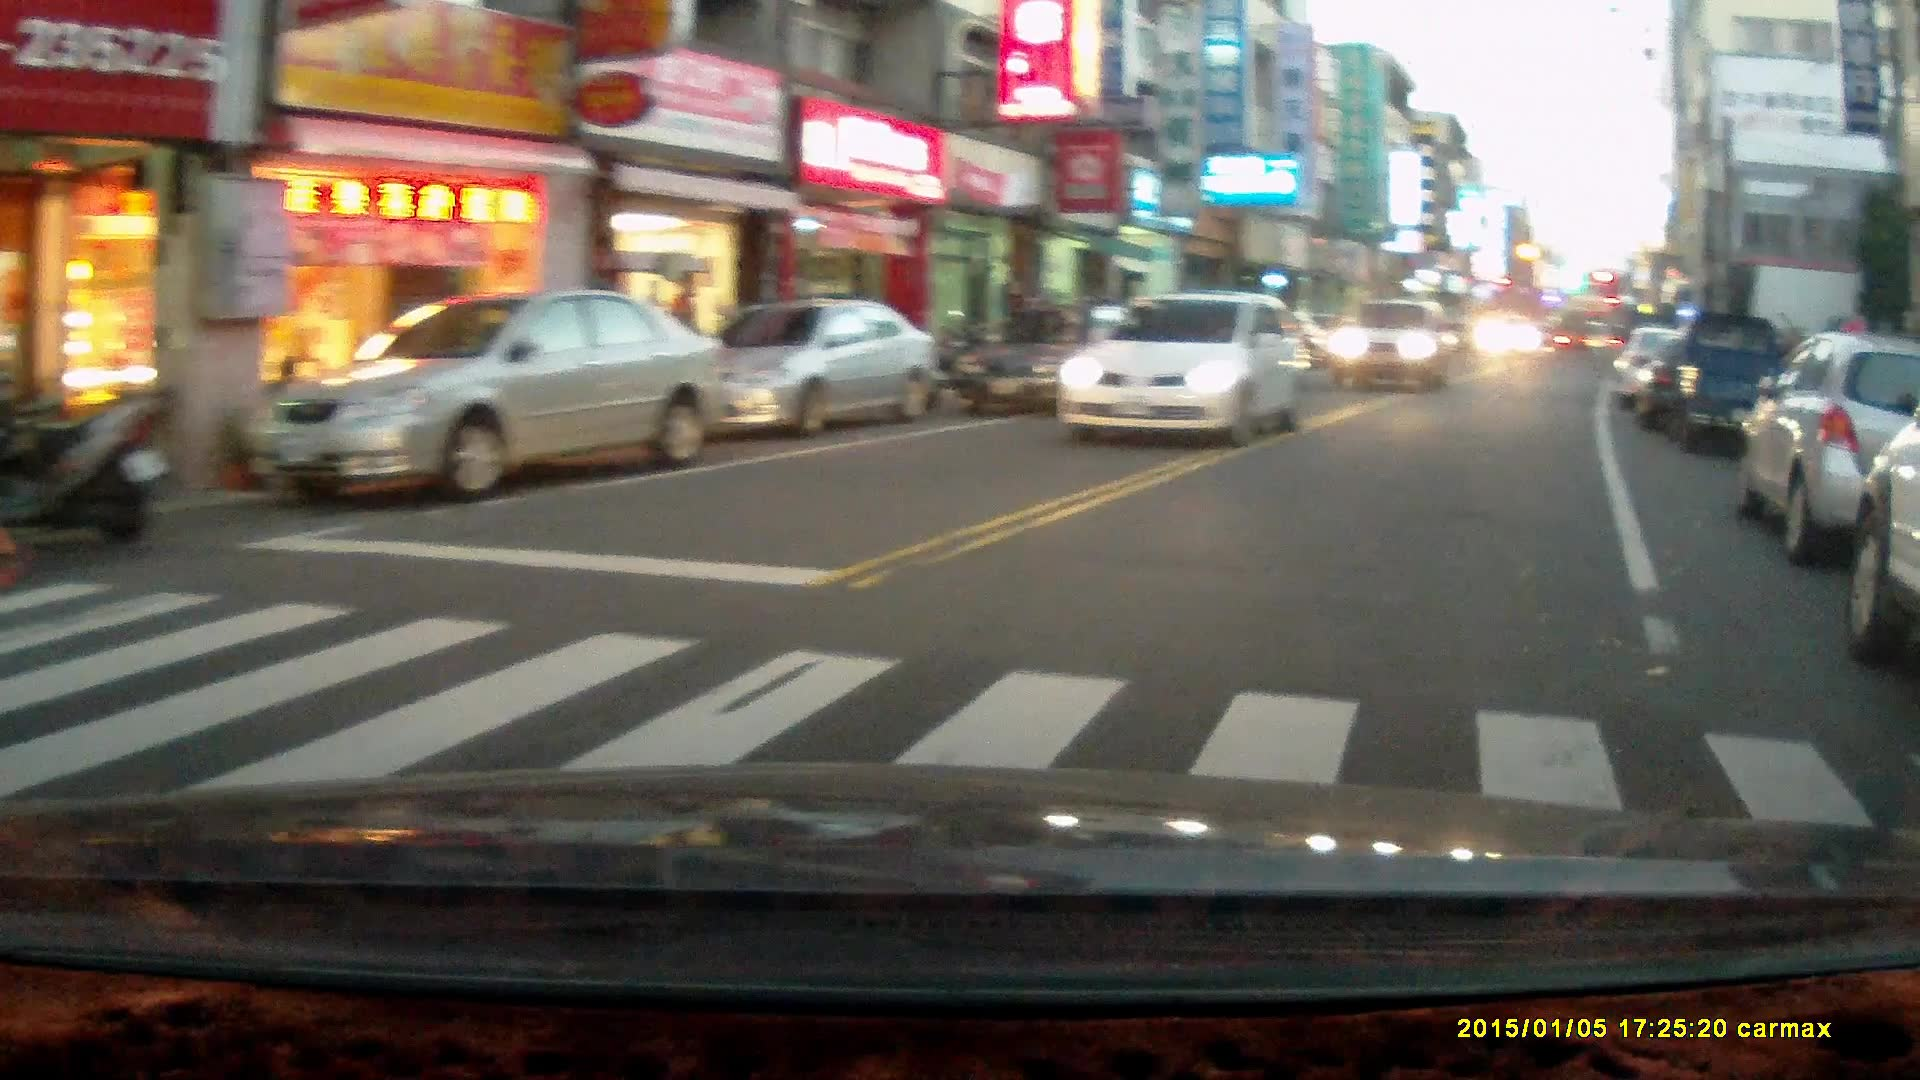vehicle: (248, 286, 735, 508), (1741, 328, 1920, 564), (1055, 287, 1315, 447), (661, 297, 943, 431), (1647, 311, 1784, 448), (1609, 326, 1770, 421), (1321, 295, 1460, 388), (1472, 310, 1545, 361)
